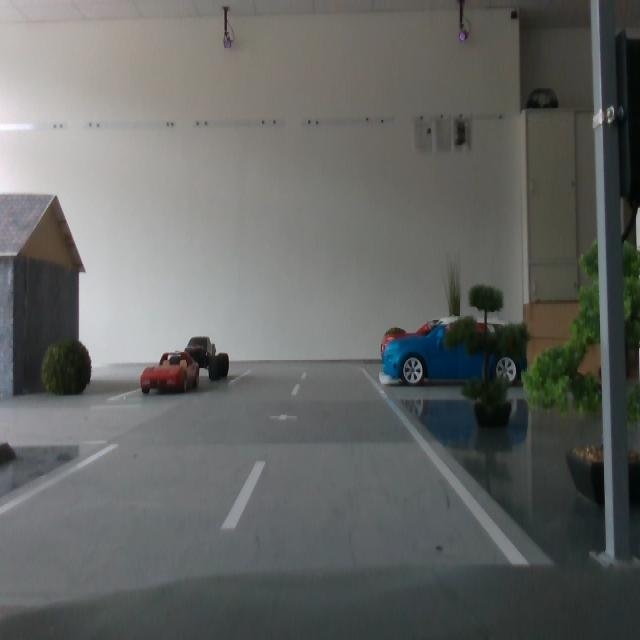car: (382, 316, 528, 386), (139, 350, 203, 397), (178, 337, 232, 385)
potted plant: (40, 336, 95, 400)
